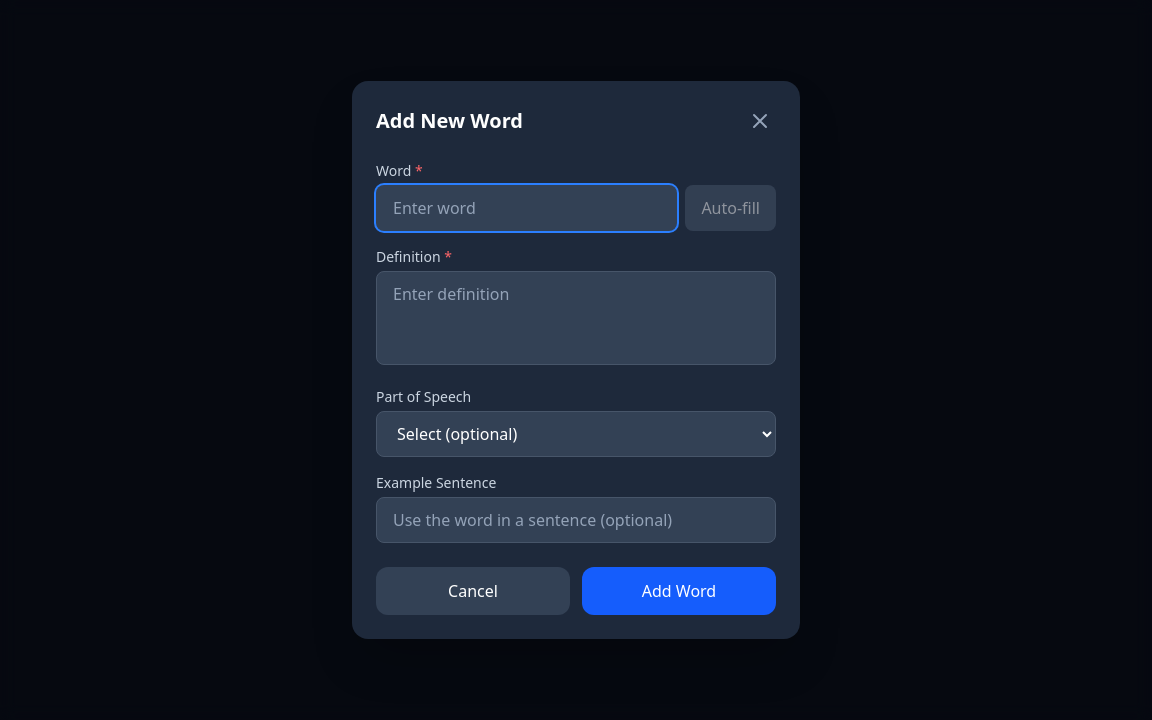
AddWordModal › rejects a word already in the deck
Type "Ubiquitous" into the field labelled "Word *" at [527, 208], box [376,185,677,231]
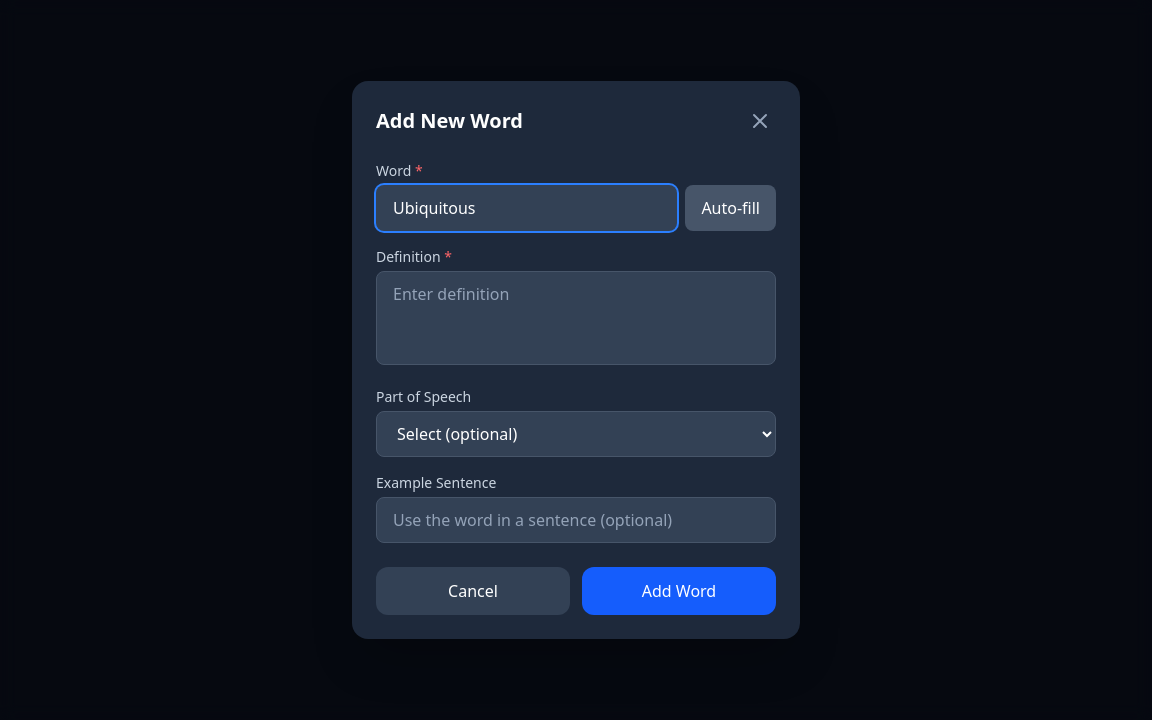
Type "everywhere" into the text box labelled "Definition *" at [576, 318], box [376,271,776,365]
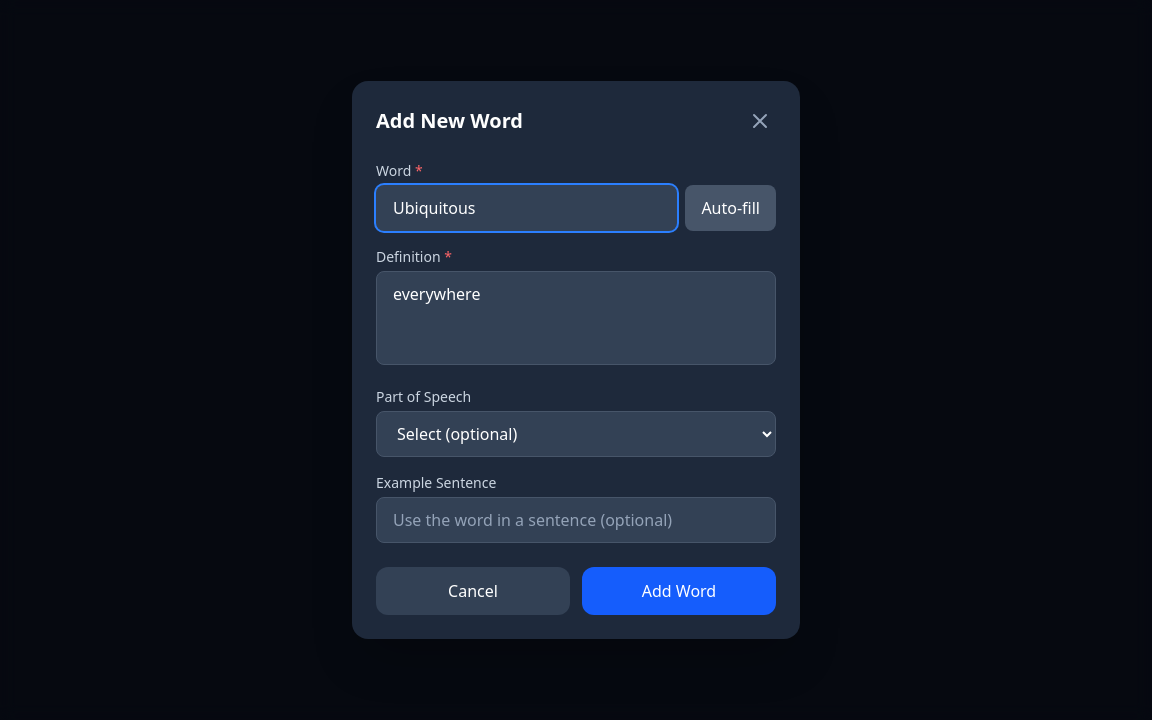
Click the button "Add Word" at [679, 591], box [582,567,776,615]
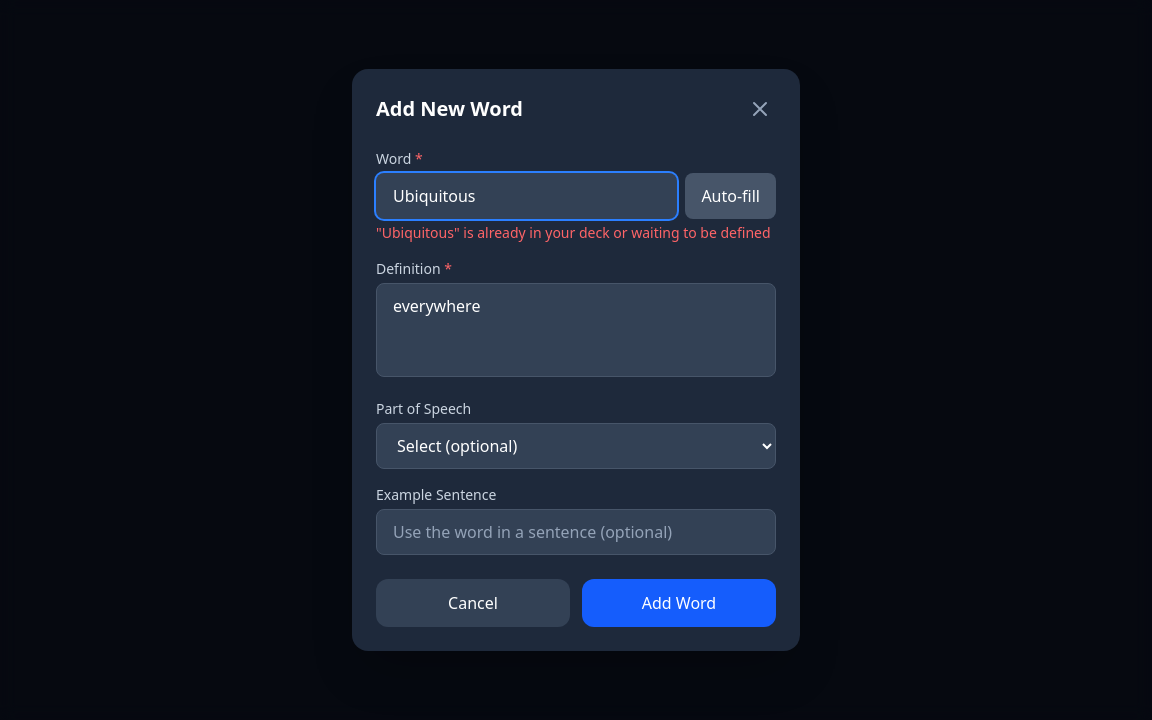
Expected: the text "\"Ubiquitous\" is already in your deck or waiting to be defined" is shown, [376,223,776,243]
